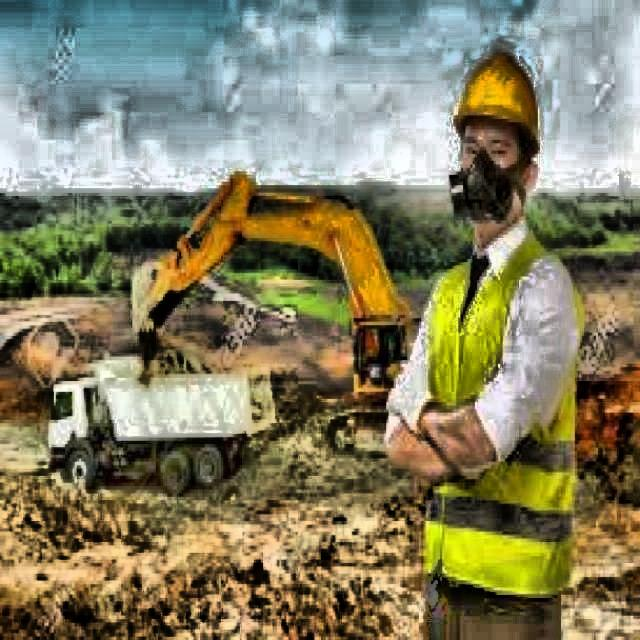bull_dozer/loader/grader: (131, 164, 420, 460), (34, 359, 280, 494)
person: (383, 46, 581, 640)
